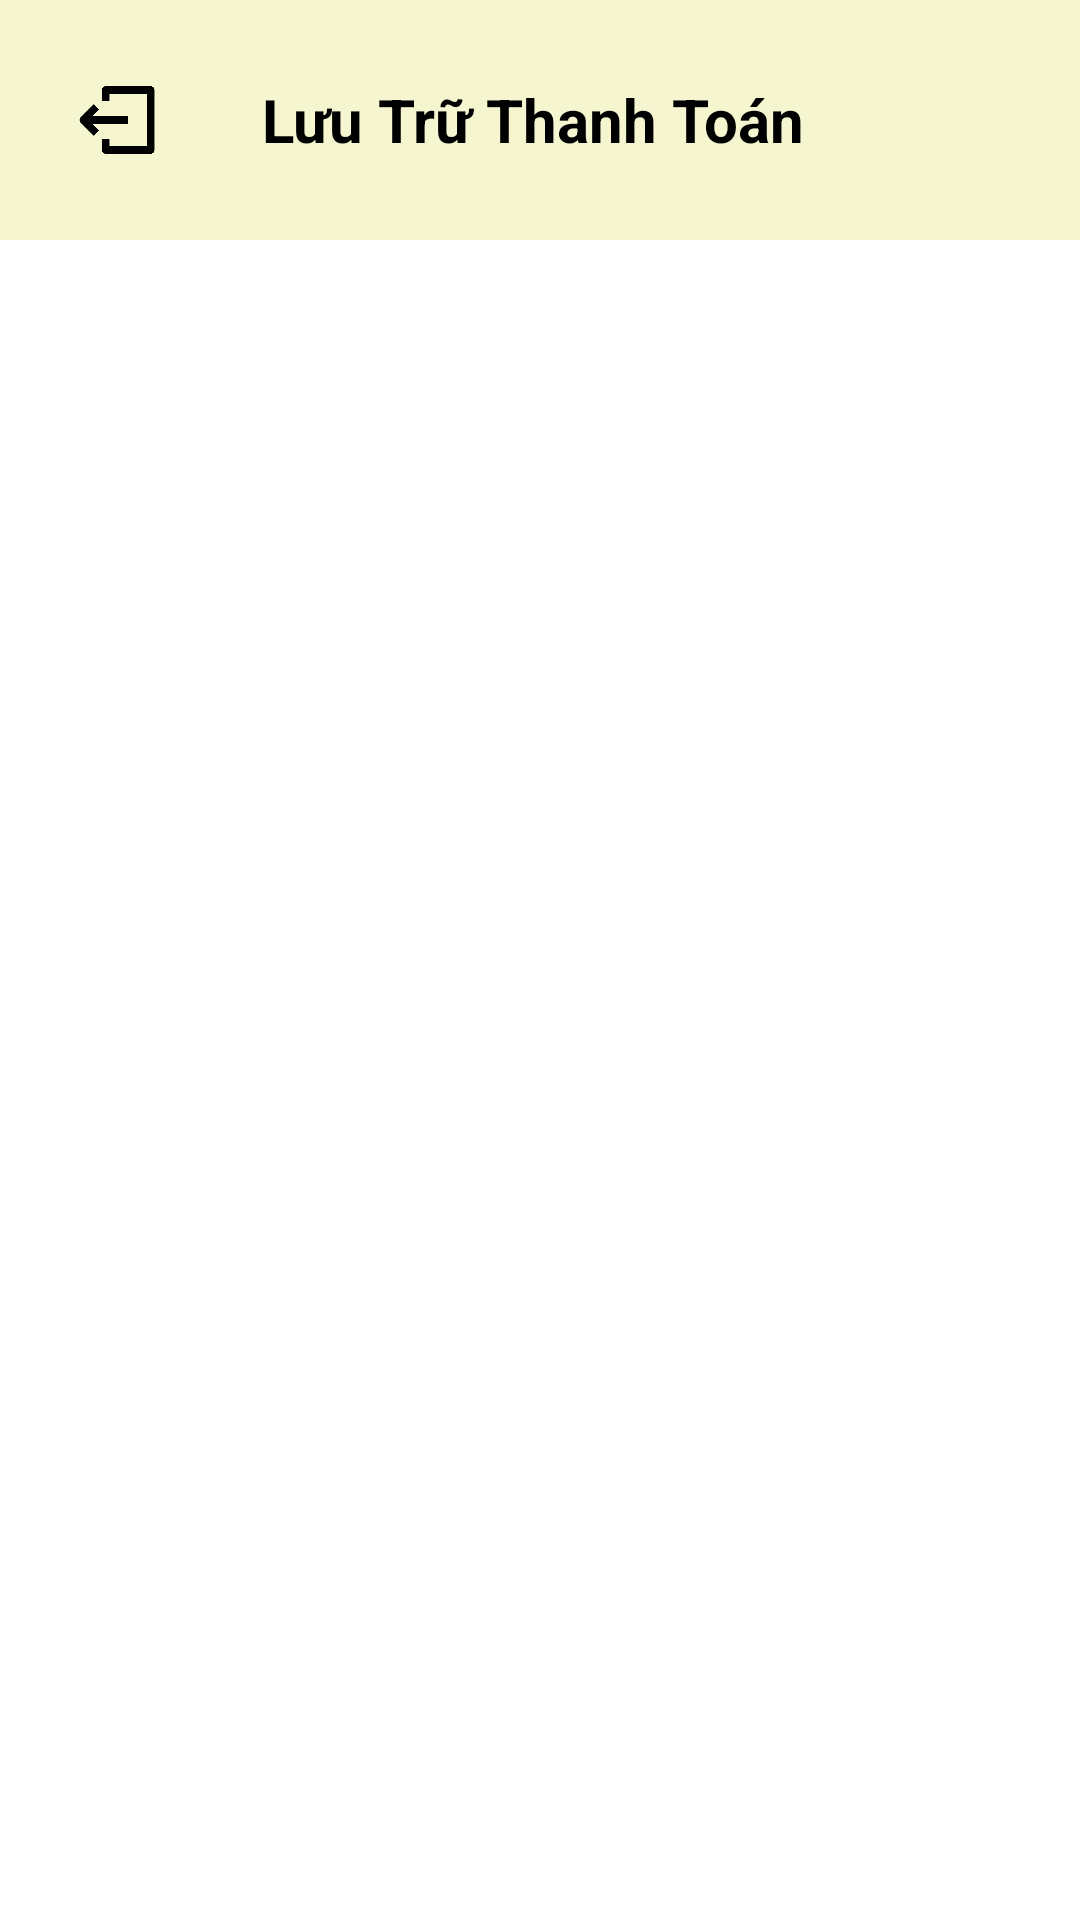

Point at icon controls on the screen. Image size 1080x1920, points as (x=x, y=y).
imgexit: (x=117, y=120)
